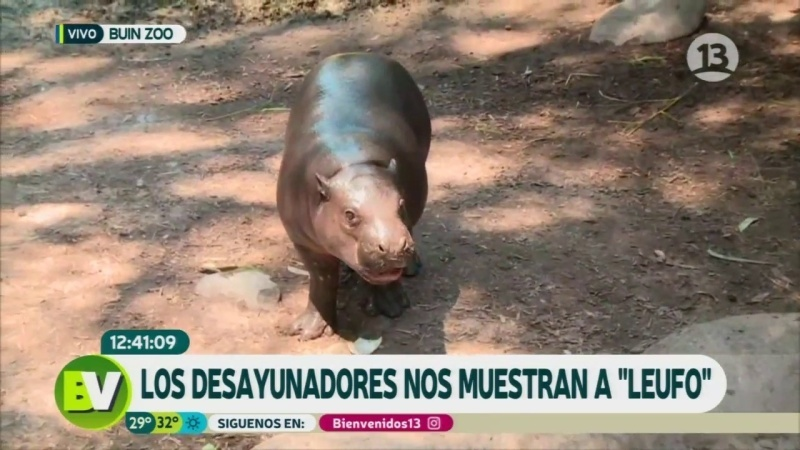hipopotamo: (259, 34, 455, 349)
